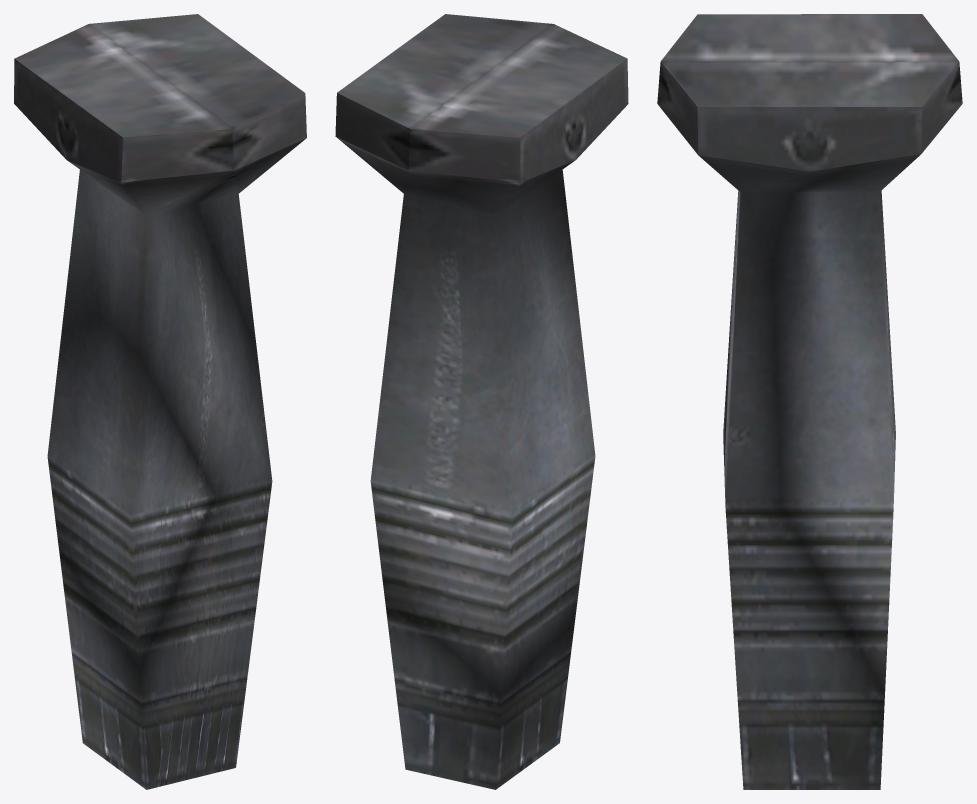
The model's file is Assault_Rifle_bq_wb_01_lod2_Grip_LOD_(000051).glb.
3 views of the same model, side by side, from view 1: azimuth 30°, elevation 25°; view 2: azimuth 150°, elevation 25°; view 3: azimuth 270°, elevation 25° (orthographic). The views are drawn at different scales.
Visible parts, largest first — view 1: bq_wb_01_lod2; view 2: bq_wb_01_lod2; view 3: bq_wb_01_lod2.
Part boxes in pixels (bbox=[...]): bq_wb_01_lod2: bbox=[14, 14, 306, 789]; bq_wb_01_lod2: bbox=[335, 14, 628, 789]; bq_wb_01_lod2: bbox=[657, 14, 962, 789].
Bounding box in the file's own units: 0.0435 × 0.1508 × 0.059.
1 material, 1 textured.
